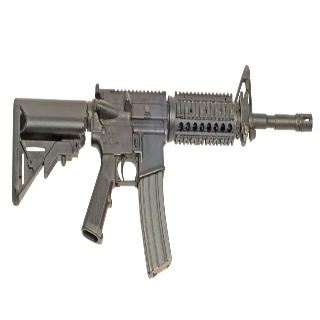rifle: (13, 62, 315, 281)
